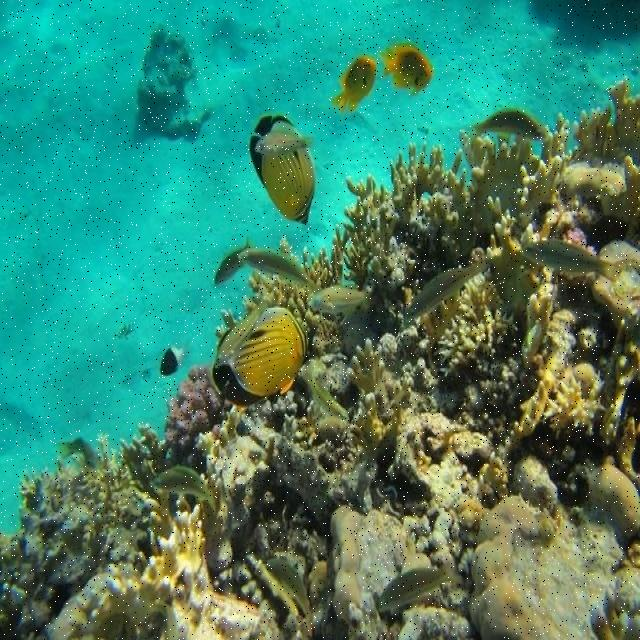fish: (211, 307, 316, 410), (250, 115, 316, 224), (405, 264, 483, 320), (524, 241, 624, 280), (267, 558, 313, 636), (216, 300, 267, 367), (239, 248, 320, 290), (380, 566, 449, 612), (381, 42, 432, 94), (332, 56, 376, 114), (154, 466, 214, 506), (471, 110, 550, 138), (310, 374, 350, 420), (256, 127, 313, 155), (310, 286, 368, 313)
